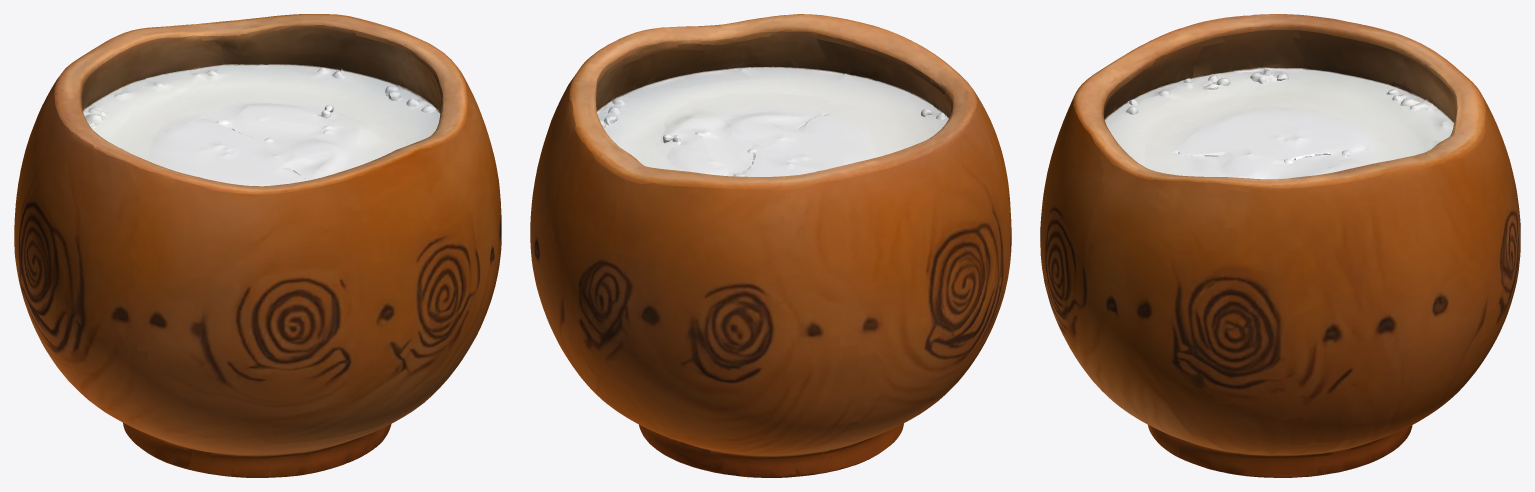
Rendered from calabash_wine.glb.
3 renders of one model, left to right at view 1: azimuth 30°, elevation 25°; view 2: azimuth 150°, elevation 25°; view 3: azimuth 270°, elevation 25°, orthographic.
Parts seen in each view (by area): view 1: geometry_0; view 2: geometry_0; view 3: geometry_0.
Part boxes in pixels (x1,y1,x2,y2): geometry_0: (14,14,501,477); geometry_0: (530,14,1011,477); geometry_0: (1040,14,1520,477).
Size of the model in its own units: 0.12 by 0.0896 by 0.12.
1 material, 1 textured.
